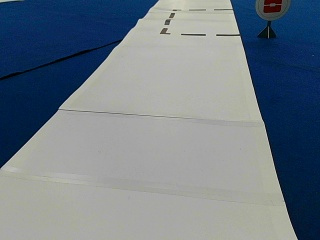company: (255, 0, 289, 20)
